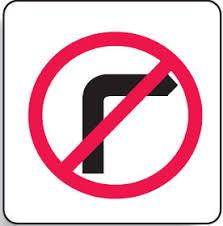no_right_turn: (26, 30, 202, 198)
